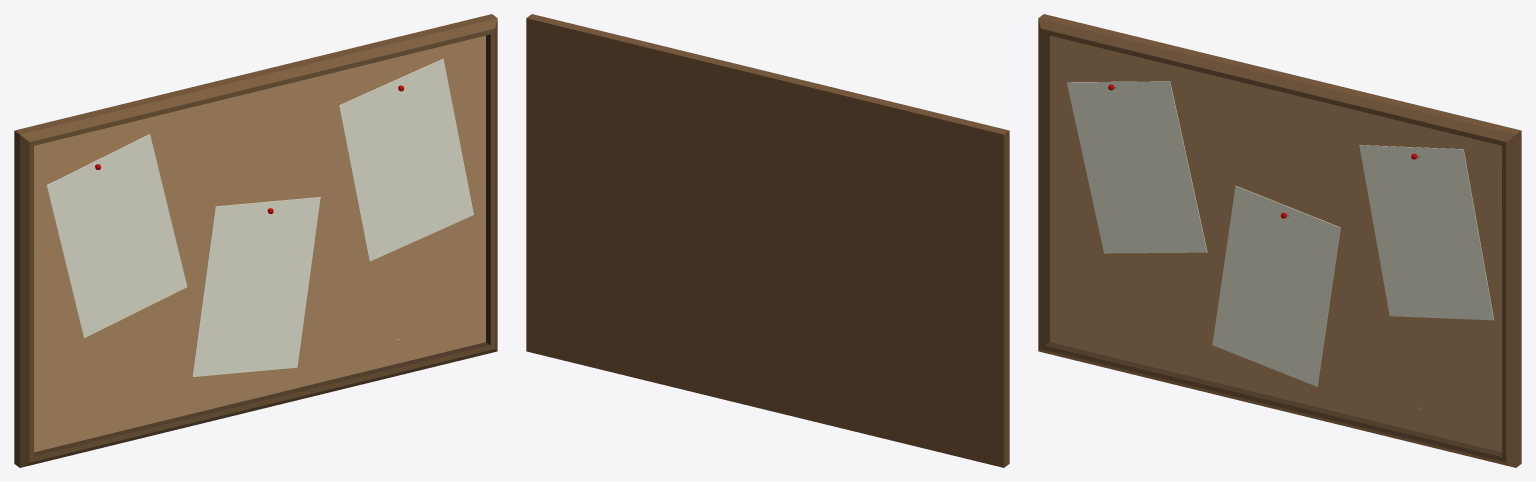
The model's file is BillBoard.fbx.
3 views of the same model, side by side, from view 1: azimuth 30°, elevation 25°; view 2: azimuth 150°, elevation 25°; view 3: azimuth 330°, elevation 25° (orthographic).
Parts seen in each view (by area): view 1: Board; view 2: Board; view 3: Board.
Boxes of the visible parts, x1=… form: Board: x1=14, y1=14, x2=497, y2=467; Board: x1=526, y1=14, x2=1009, y2=467; Board: x1=1038, y1=14, x2=1521, y2=467.
Bounding box in the file's own units: 90 × 60 × 3.21.
